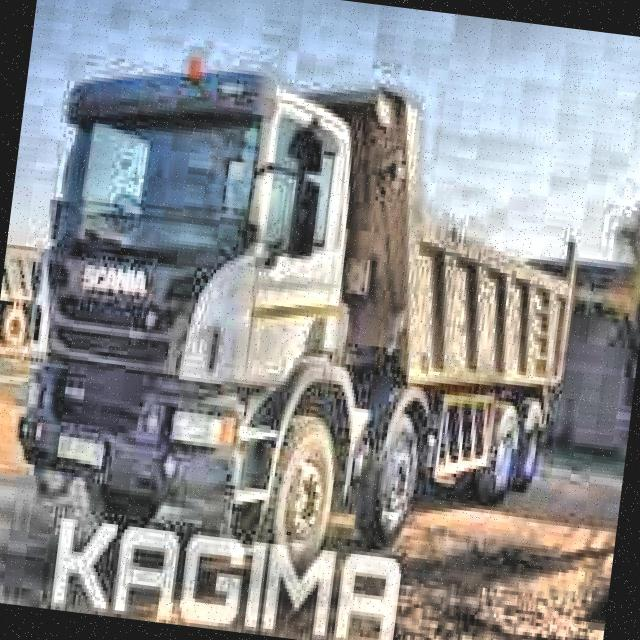dump_truck: (0, 31, 600, 595)
